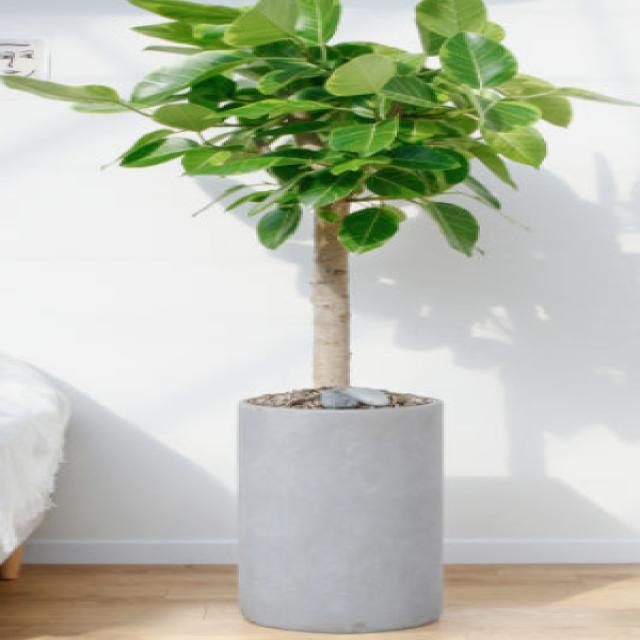Plant Pot: (196, 363, 516, 629)
